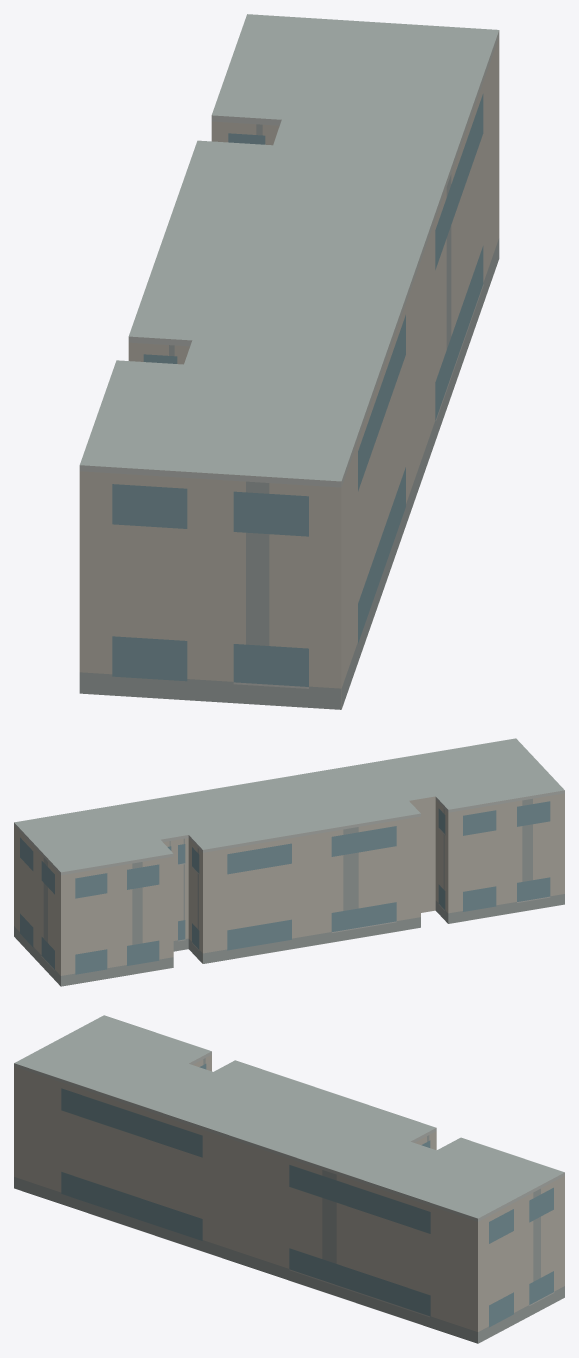
The model's file is residential-9439d78f-868d-4f0d-9ba1-69100632006e.glb.
3 renders of one model, top to bottom at view 1: azimuth 30°, elevation 25°; view 2: azimuth 150°, elevation 25°; view 3: azimuth 270°, elevation 25°, orthographic. The views are drawn at different scales.
Visible parts, largest first — view 1: residential-9439d78f-868d-4f0d-9ba1-69100632006e.tmp; view 2: residential-9439d78f-868d-4f0d-9ba1-69100632006e.tmp; view 3: residential-9439d78f-868d-4f0d-9ba1-69100632006e.tmp.
Part boxes in pixels (x1,y1,x2,y2): residential-9439d78f-868d-4f0d-9ba1-69100632006e.tmp: (79,14,499,709); residential-9439d78f-868d-4f0d-9ba1-69100632006e.tmp: (14,738,564,986); residential-9439d78f-868d-4f0d-9ba1-69100632006e.tmp: (14,1015,564,1343).
Size of the model in its own units: 31.91 by 9.15 by 36.5.
